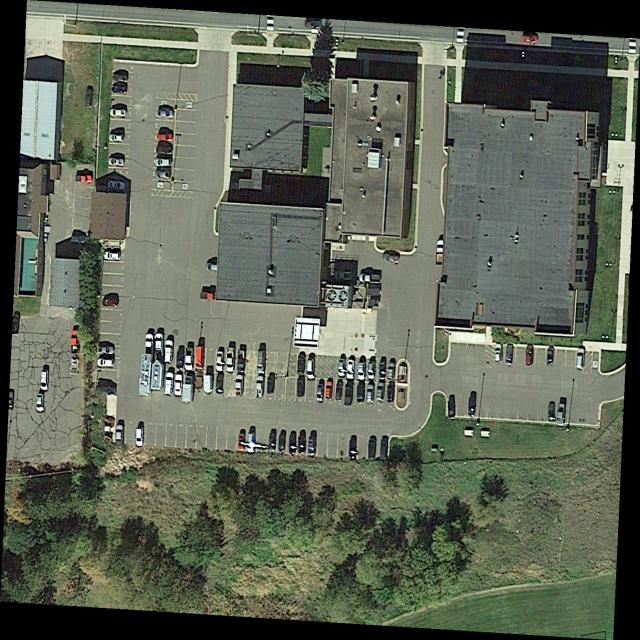small-vehicle: (434, 239, 444, 265), (383, 250, 400, 265), (164, 372, 174, 396), (204, 260, 224, 272), (344, 381, 354, 405), (70, 326, 79, 352), (95, 385, 116, 396), (246, 429, 255, 454), (84, 85, 94, 107), (227, 347, 235, 373), (576, 348, 585, 370), (376, 381, 385, 403), (257, 350, 265, 374), (164, 340, 172, 364), (74, 174, 93, 184), (306, 359, 315, 380), (175, 346, 184, 367), (235, 374, 243, 397), (360, 274, 380, 283), (237, 350, 245, 372), (255, 376, 263, 398), (174, 374, 182, 396), (185, 348, 193, 370), (156, 143, 172, 154), (557, 403, 565, 425), (380, 436, 388, 458), (307, 436, 316, 455), (304, 19, 323, 28), (356, 384, 365, 403), (297, 354, 305, 375), (505, 344, 513, 365), (368, 438, 376, 459), (216, 351, 224, 371), (108, 157, 124, 167), (525, 345, 533, 365), (335, 381, 343, 401), (387, 383, 395, 403), (36, 393, 44, 412), (347, 360, 355, 379), (366, 385, 374, 404), (103, 298, 118, 308), (116, 425, 123, 446), (71, 234, 87, 243), (200, 291, 216, 300), (269, 433, 277, 451), (289, 435, 297, 453), (267, 376, 275, 394), (98, 345, 114, 354), (110, 108, 126, 117), (104, 251, 120, 260), (387, 362, 395, 380), (468, 397, 476, 415), (136, 427, 143, 447), (298, 436, 306, 453), (108, 181, 125, 189), (97, 359, 114, 367), (548, 404, 556, 421), (338, 359, 346, 376), (216, 374, 223, 393), (41, 371, 48, 390), (297, 378, 304, 397), (114, 84, 127, 94), (157, 110, 173, 118), (448, 400, 456, 416), (238, 433, 245, 451), (317, 383, 324, 401), (326, 381, 333, 399), (495, 344, 502, 362), (379, 361, 386, 379), (349, 440, 356, 458), (109, 134, 124, 142), (522, 35, 537, 43), (279, 435, 286, 452), (547, 347, 554, 364), (358, 363, 365, 380), (368, 362, 375, 379), (156, 171, 170, 179), (155, 159, 171, 166), (158, 134, 173, 141), (115, 74, 128, 82)
